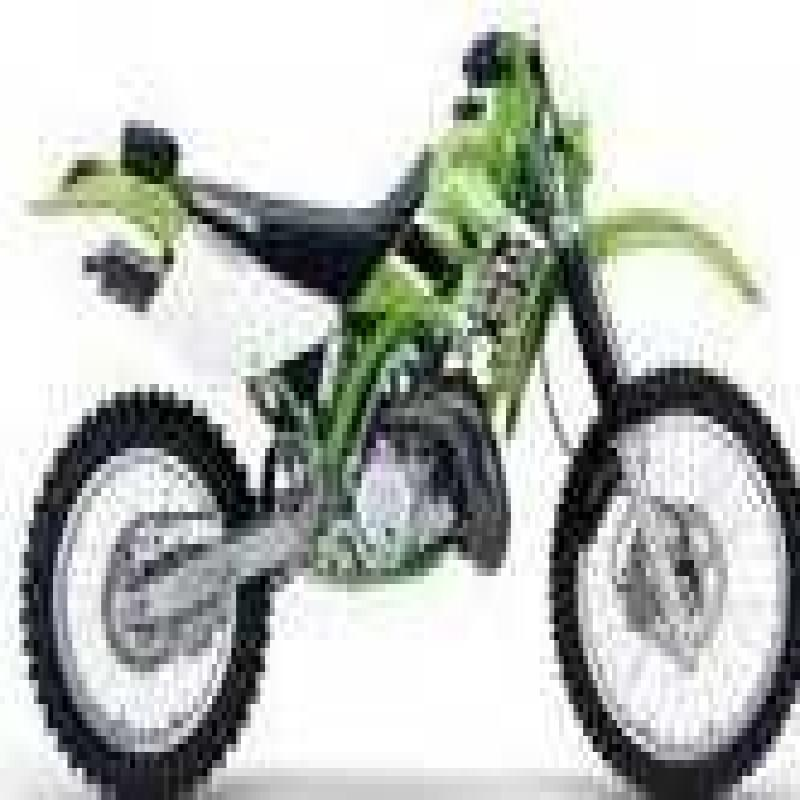bike: (19, 32, 795, 800)
